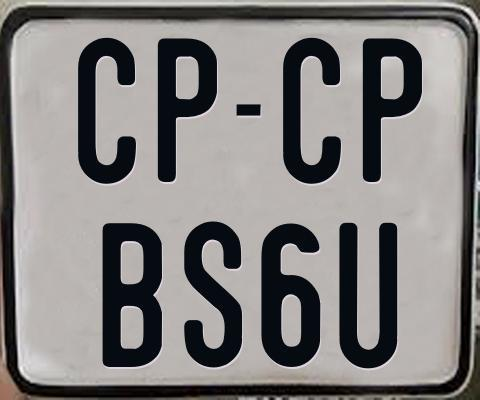6: (261, 221, 326, 365)
B: (100, 222, 165, 367)
C: (280, 38, 342, 190), (78, 35, 136, 187)
P: (361, 37, 420, 187), (155, 36, 216, 180)
S: (183, 220, 247, 369)
U: (338, 223, 402, 369)
